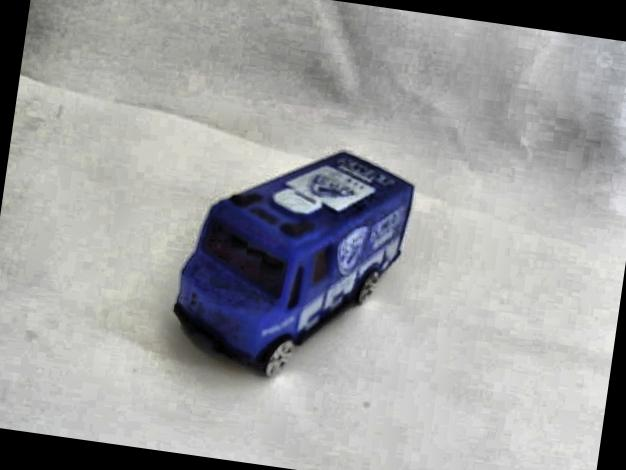police car: (171, 129, 421, 396)
